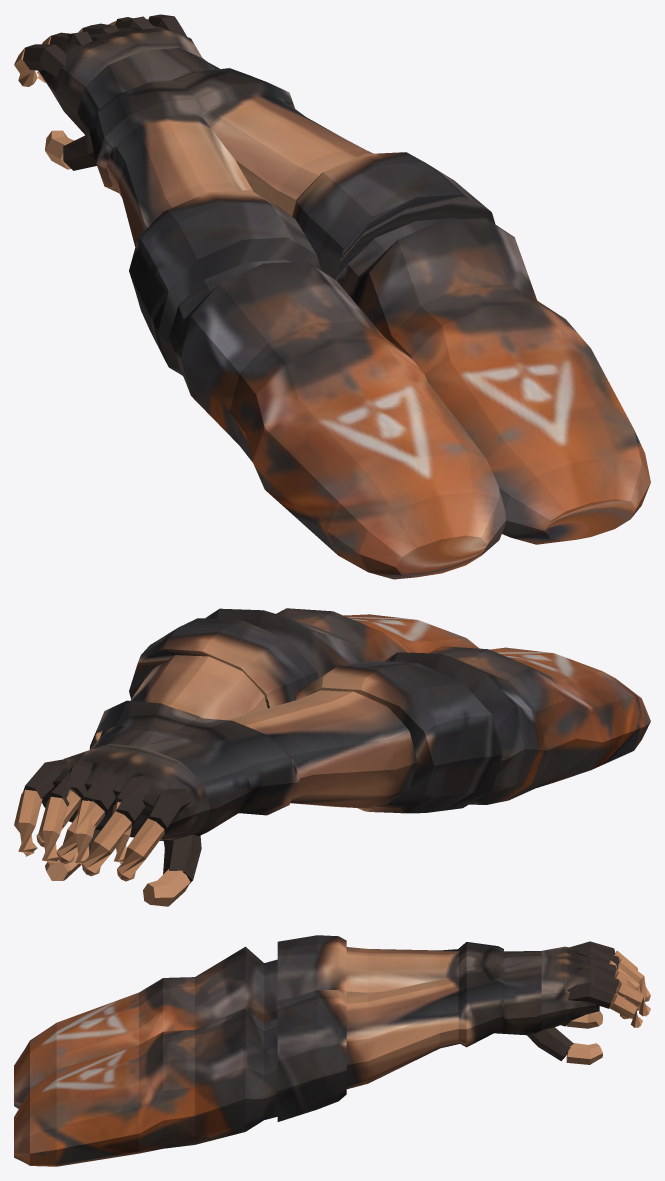
File: Eren_Kollar.glb
3 renders of one model, top to bottom at view 1: azimuth 30°, elevation 25°; view 2: azimuth 150°, elevation 25°; view 3: azimuth 270°, elevation 25°, orthographic. The views are drawn at different scales.
Visible parts, largest first — view 1: Sol, Sag; view 2: Sol, Sag; view 3: Sag, Sol.
Part boxes in pixels (x1=…): Sol: x1=36, y1=14, x2=505, y2=579; Sag: x1=14, y1=16, x2=650, y2=544; Sol: x1=14, y1=646, x2=650, y2=880; Sag: x1=36, y1=608, x2=479, y2=906; Sag: x1=14, y1=941, x2=650, y2=1166; Sol: x1=14, y1=935, x2=650, y2=1108.
Size of the model in its own units: 0.301 by 0.201 by 0.6681.
Materials: 3 (3 with a texture image).
